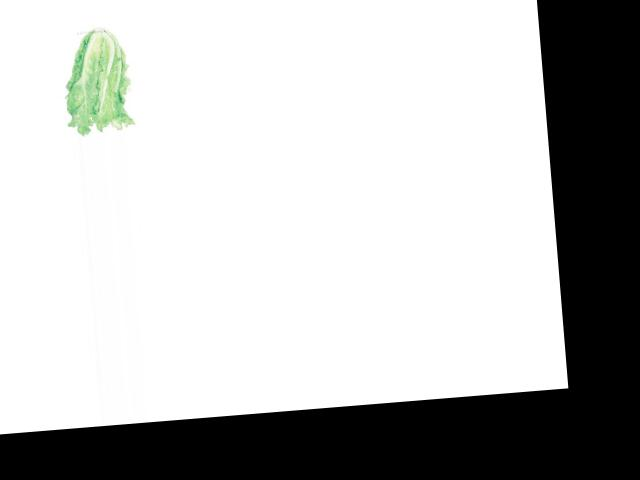lettuce: (59, 28, 137, 137)
